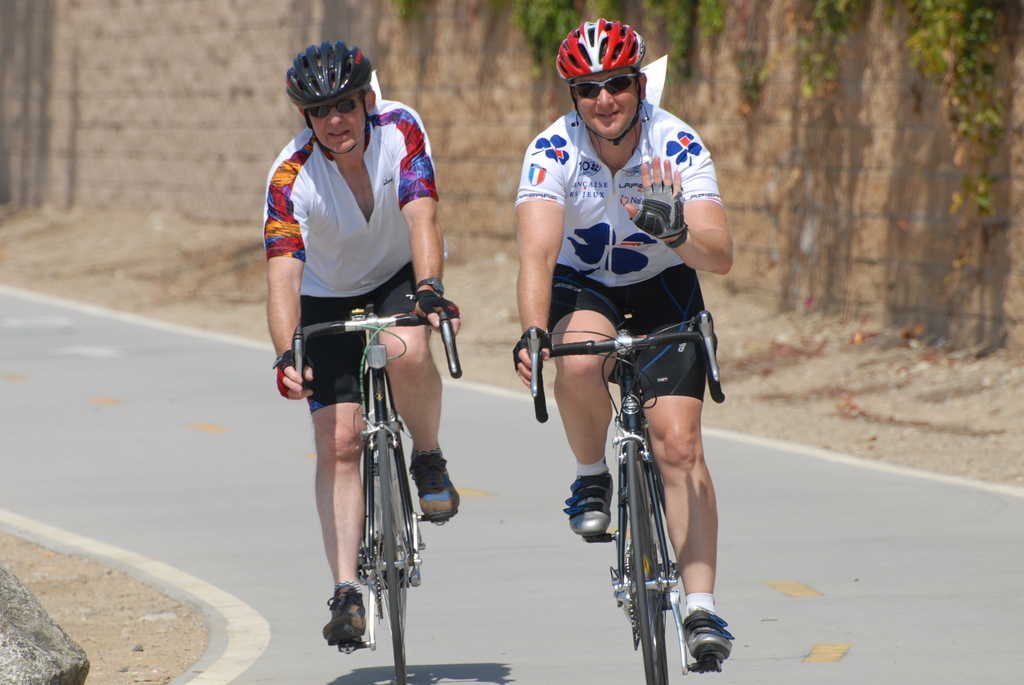Bike_toward: (225, 281, 489, 685)
